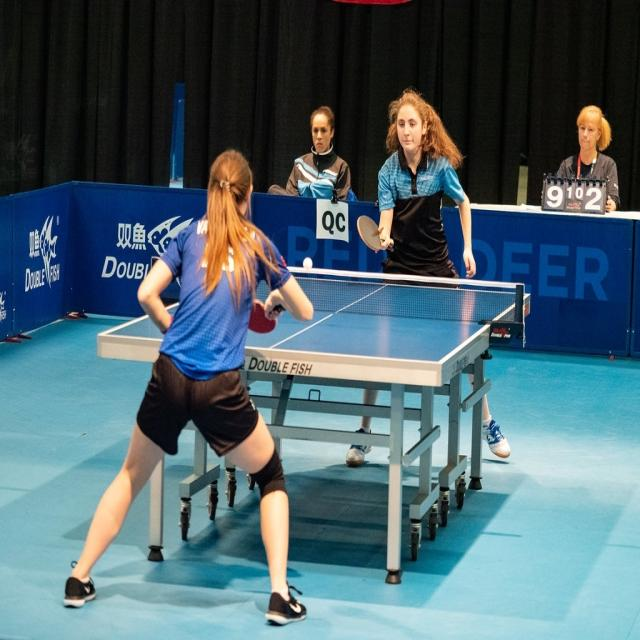TT Net: (241, 259, 523, 329)
TT Racket: (230, 287, 288, 344), (350, 206, 399, 267)
TT Table: (102, 259, 527, 369)
